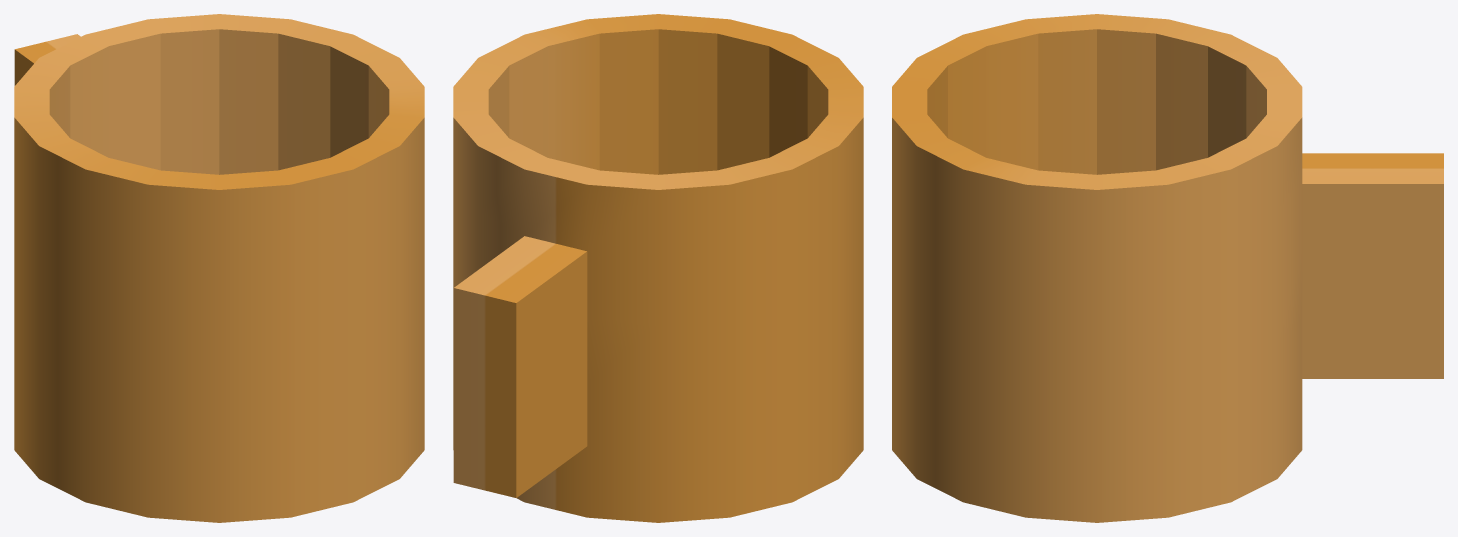
The model's file is ocup.FBX.
3 views of the same model, side by side, from view 1: azimuth 30°, elevation 25°; view 2: azimuth 150°, elevation 25°; view 3: azimuth 270°, elevation 25° (orthographic).
Parts seen in each view (by area): view 1: Cylinder009; view 2: Cylinder009; view 3: Cylinder009.
Part boxes in pixels (box(x1,y1,x2,y2)): Cylinder009: box(14, 14, 424, 522); Cylinder009: box(453, 14, 863, 522); Cylinder009: box(892, 14, 1443, 522).
Size of the model in its own units: 25.76 by 34.13 by 22.71.
1 material, 1 textured.
